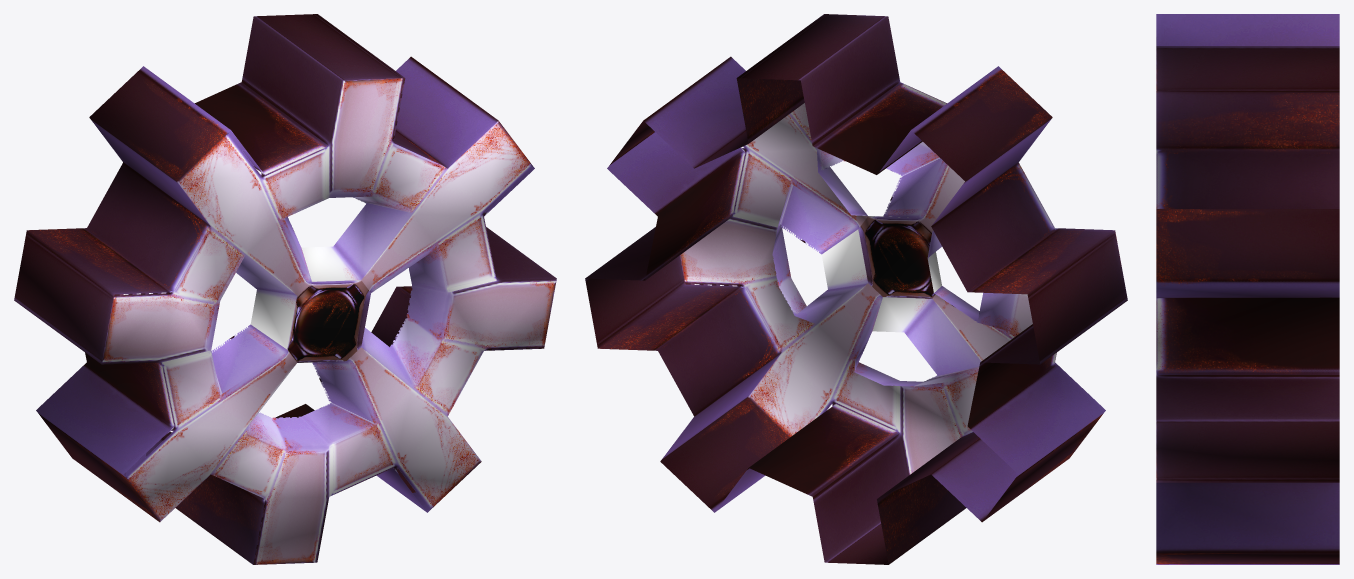
File: cog.FBX
3 renders of one model, left to right at view 1: azimuth 30°, elevation 25°; view 2: azimuth 150°, elevation 25°; view 3: azimuth 270°, elevation 25°, orthographic. The views are drawn at different scales.
Parts seen in each view (by area): view 1: cog; view 2: cog; view 3: cog.
Boxes of the visible parts, box(x1,y1,x2,y2) form: cog: box(14, 14, 556, 564); cog: box(585, 14, 1127, 564); cog: box(1156, 14, 1339, 564).
Size of the model in its own units: 600 by 200 by 600.
